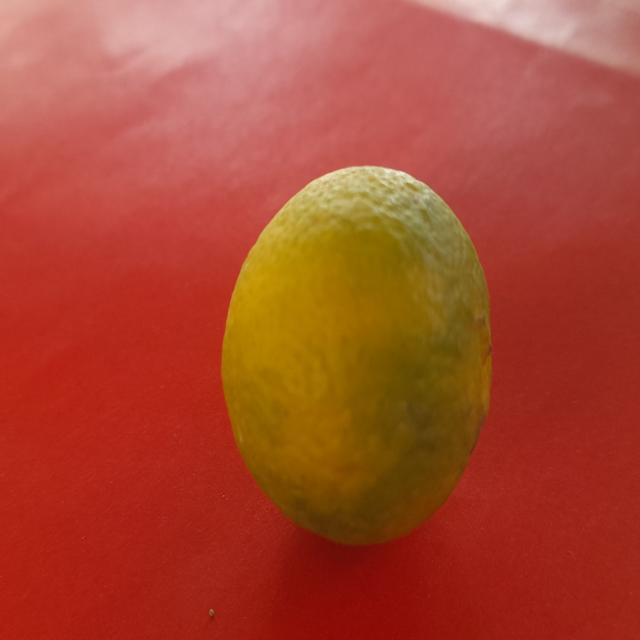greening: (220, 159, 499, 552)
